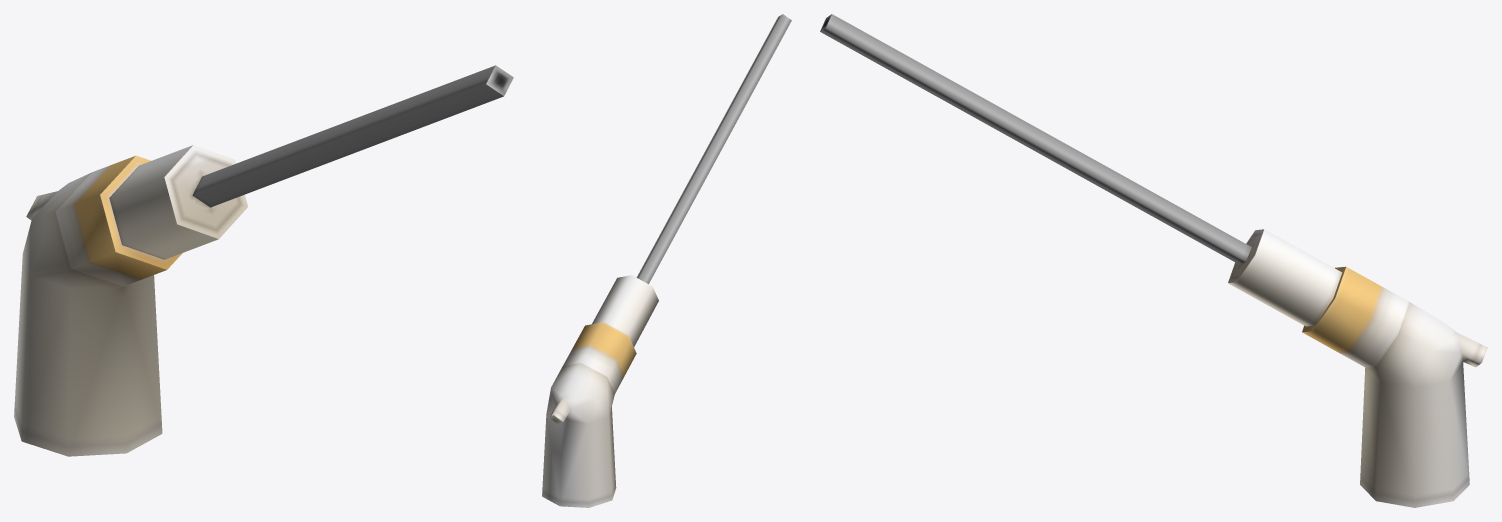
Rendered from jsf_InjectionCap.fbx.
3 views of the same model, side by side, from view 1: azimuth 30°, elevation 25°; view 2: azimuth 150°, elevation 25°; view 3: azimuth 270°, elevation 25° (orthographic). The views are drawn at different scales.
Visible parts, largest first — view 1: jsf_InjectionCap; view 2: jsf_InjectionCap; view 3: jsf_InjectionCap.
Part boxes in pixels (x1=…): jsf_InjectionCap: x1=14, y1=65, x2=513, y2=456; jsf_InjectionCap: x1=542, y1=14, x2=791, y2=507; jsf_InjectionCap: x1=820, y1=14, x2=1487, y2=507.
Size of the model in its own units: 2.87 by 13.57 by 17.44.
